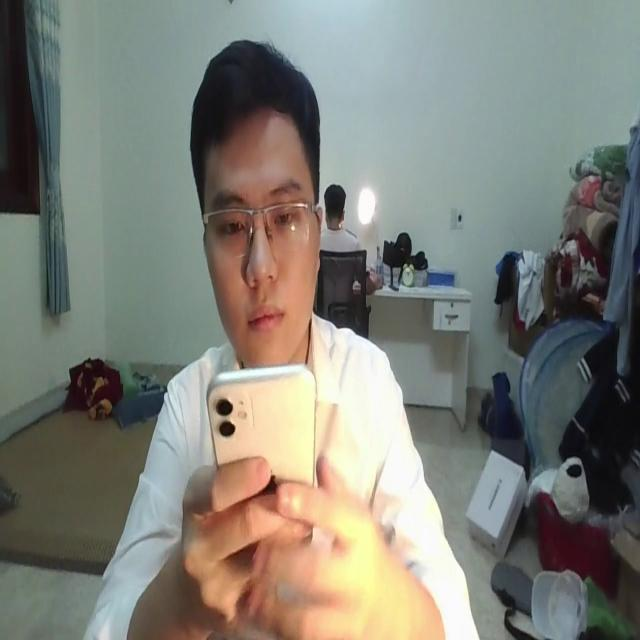phone: (204, 362, 322, 532)
student: (81, 39, 476, 640)
